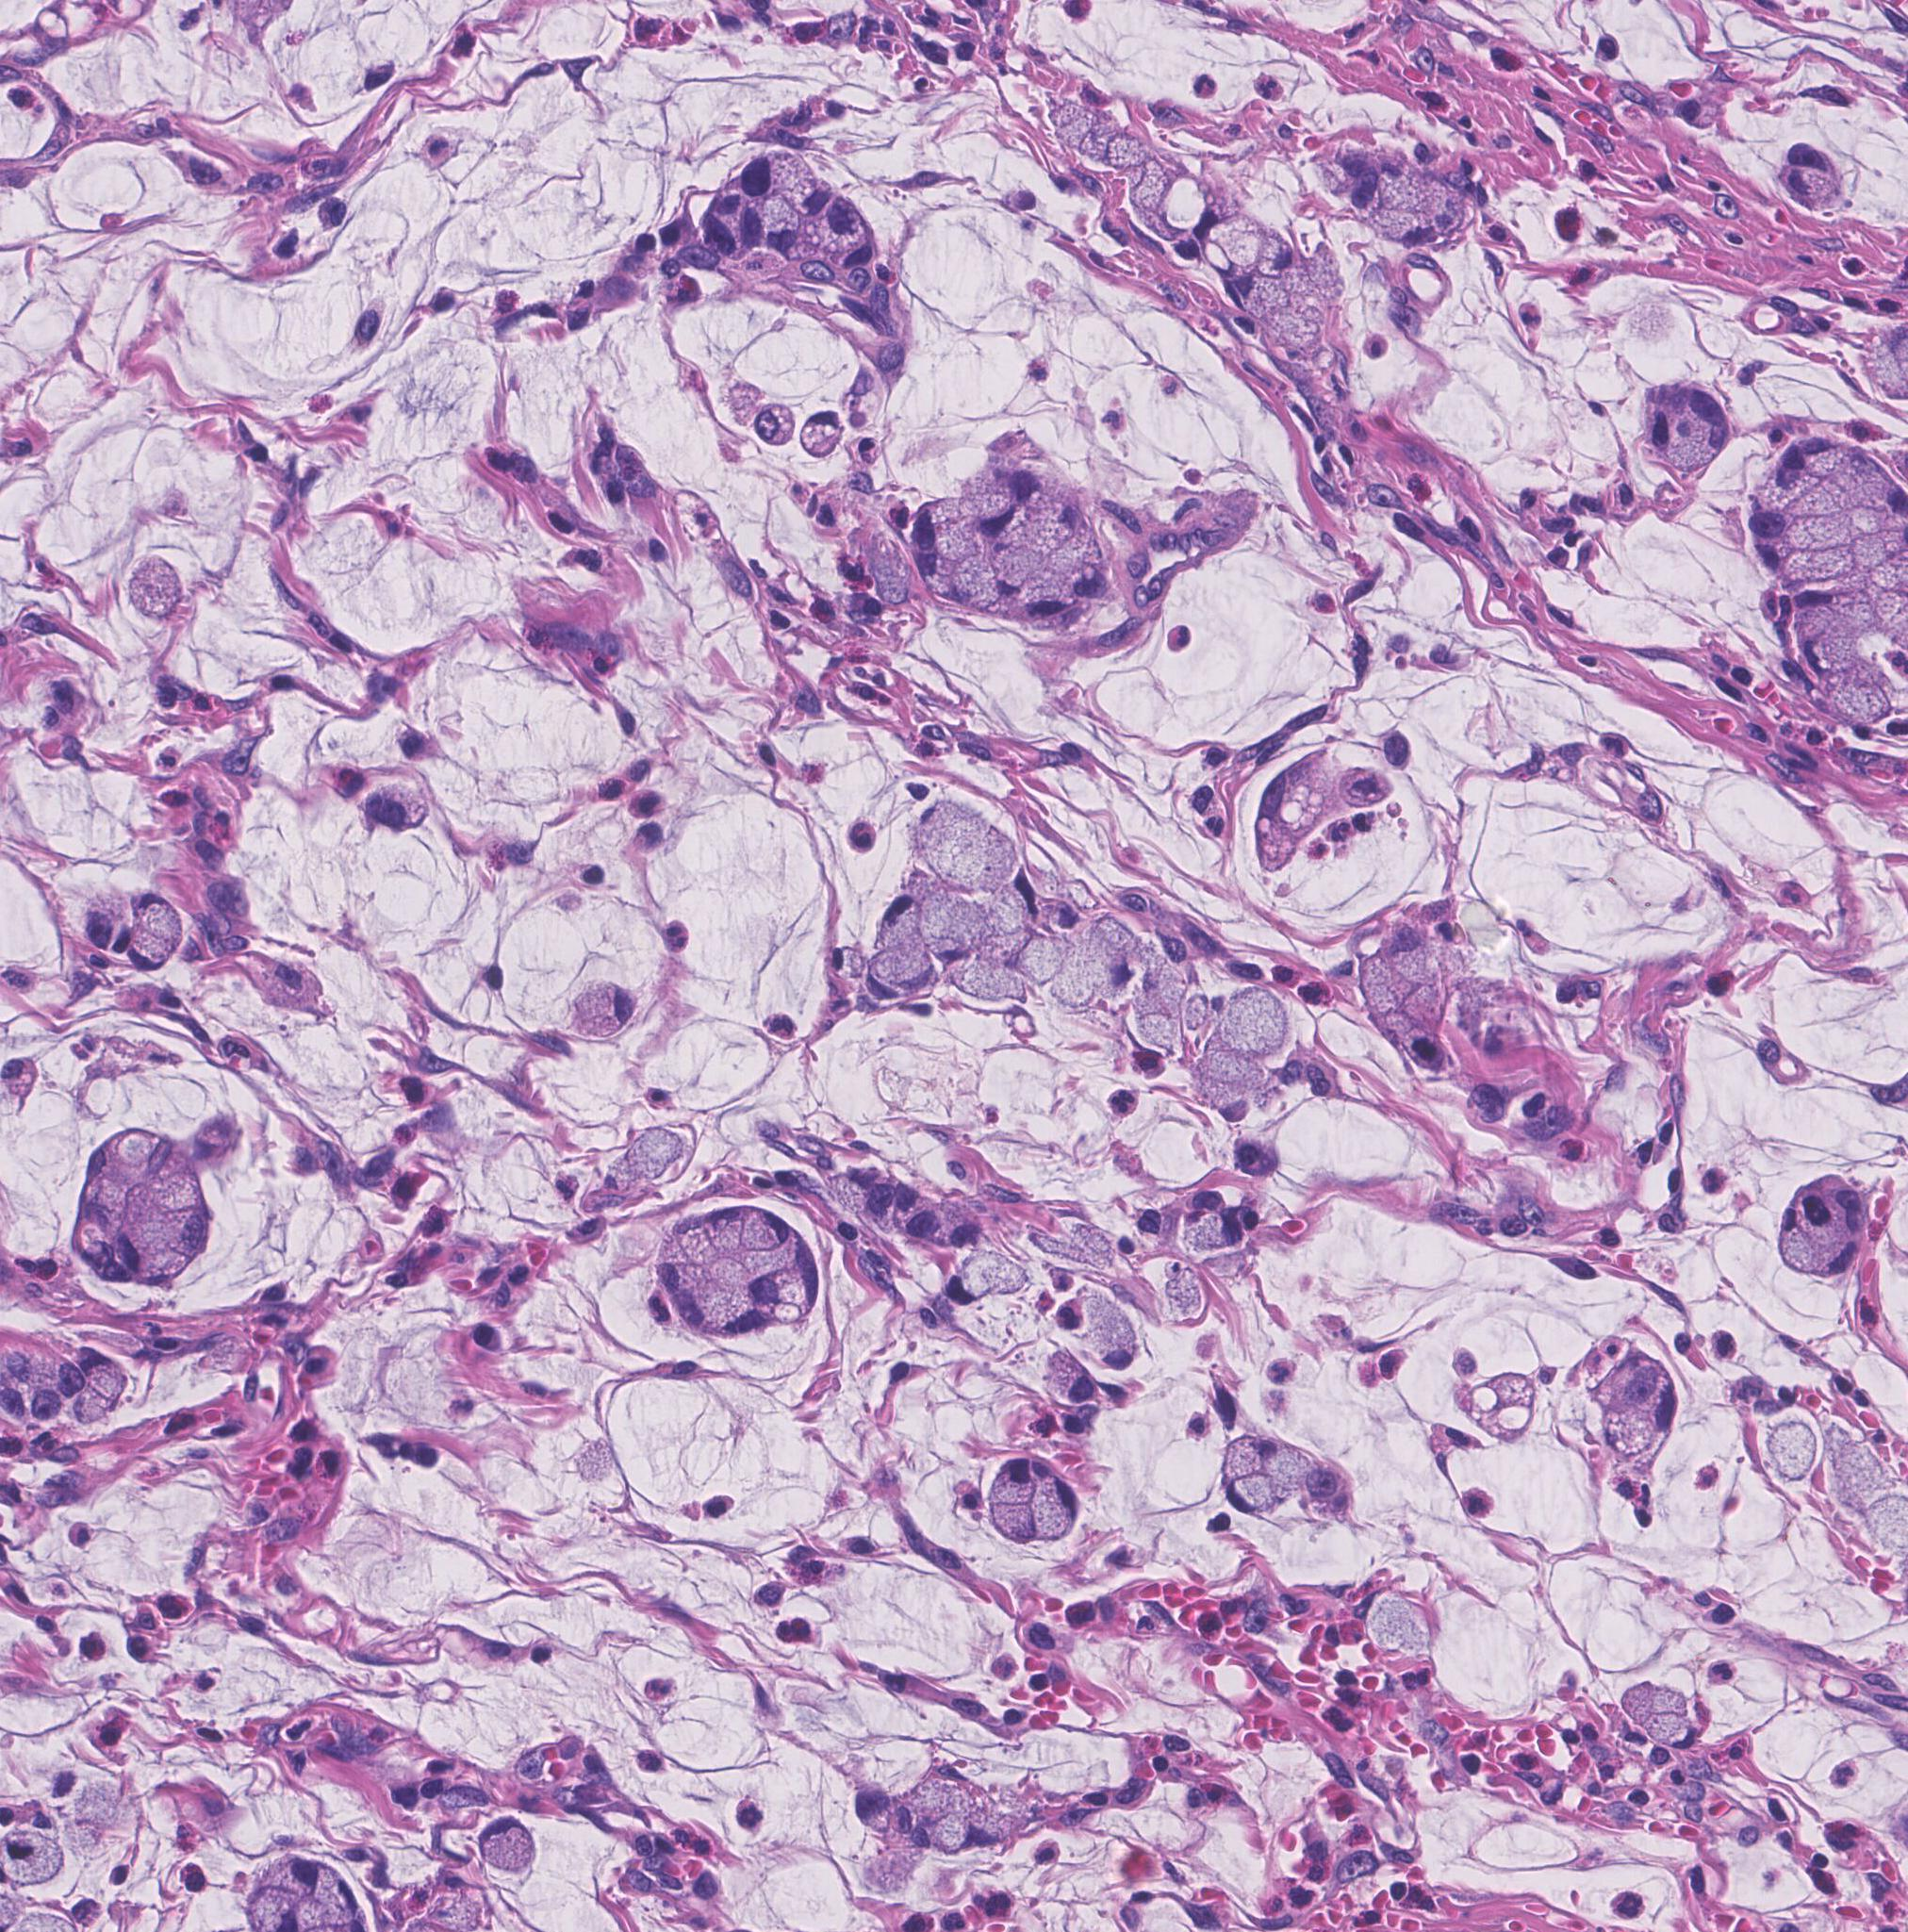ring_cell_cancer: (1337, 143, 1475, 250), (867, 1773, 1022, 1867), (662, 1254, 804, 1343), (1587, 1346, 1690, 1469), (916, 797, 1029, 897), (1649, 386, 1733, 476), (101, 1112, 183, 1194), (1052, 927, 1129, 1012), (1082, 1294, 1150, 1388), (945, 1241, 1036, 1310), (1148, 170, 1220, 252), (115, 879, 211, 939), (921, 890, 996, 960), (566, 979, 645, 1037), (966, 476, 1034, 539), (741, 150, 821, 203), (1214, 1467, 1289, 1523), (1754, 1420, 1819, 1484), (475, 1817, 540, 1880), (1386, 920, 1440, 991), (729, 1196, 792, 1257), (872, 892, 940, 946), (867, 944, 938, 995), (982, 1453, 1045, 1507), (798, 404, 854, 462), (1031, 1483, 1087, 1539), (991, 547, 1052, 596), (1803, 626, 1863, 671), (1181, 1213, 1248, 1254), (121, 935, 176, 983), (1639, 1712, 1702, 1750), (1784, 170, 1842, 208), (1801, 434, 1842, 484), (1258, 234, 1295, 280), (1676, 96, 1723, 129)
